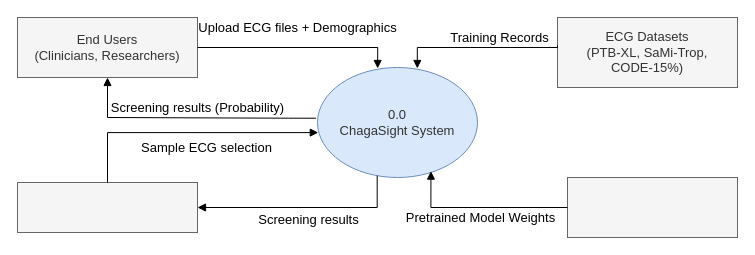
The diagram is 755 pixels wide and 255 high, and some of its shapes have lost their labels. Here are the shapes that lost their labels. From the top down, the centre of each, then its label:
At (107,207): "Medical Students".
At (652,207): "Hugging Face Hub".
